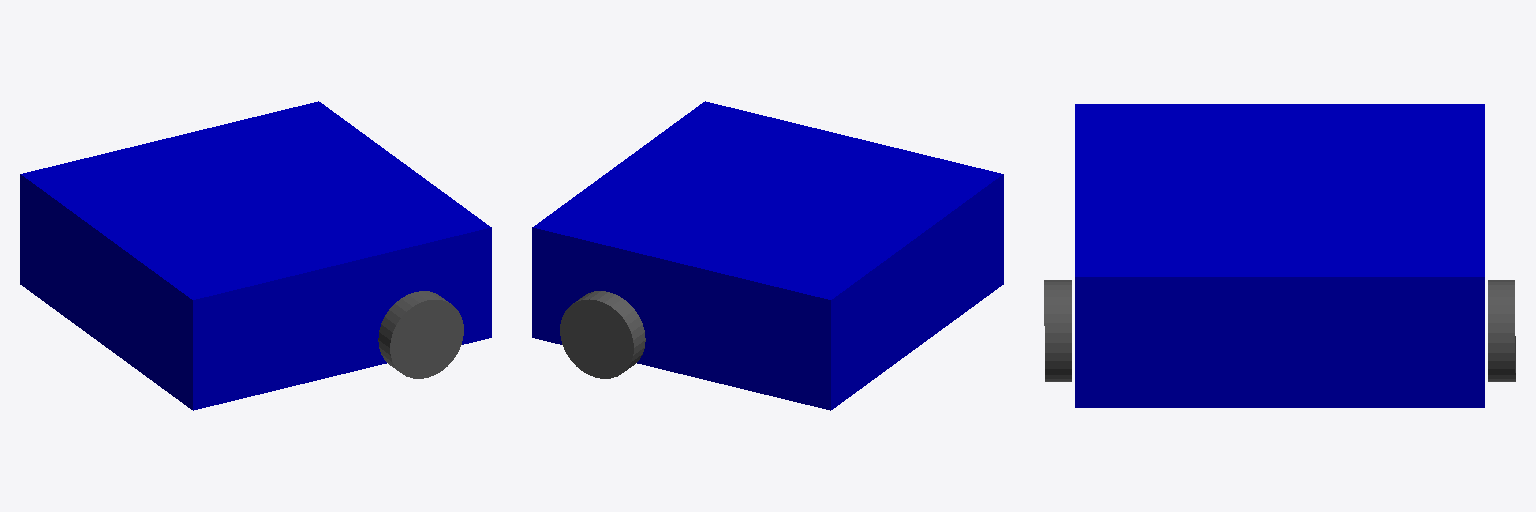
The robot description file, URDF, robot "turtlebot3_waffle":
<?xml version="1.0" ?>
<robot name="turtlebot3_waffle" xmlns:xacro="http://ros.org/wiki/xacro">
  <!-- <xacro:include filename="$(find turtlebot3_description)/urdf/common_properties.urdf"/>

  <xacro:property name="r200_cam_rgb_px" value="0.005"/>
  <xacro:property name="r200_cam_rgb_py" value="0.018"/>
  <xacro:property name="r200_cam_rgb_pz" value="0.013"/>
  <xacro:property name="r200_cam_depth_offset" value="0.01"/> -->

  <!-- Init colour -->
  <material name="black">
      <color rgba="0.0 0.0 0.0 1.0"/>
  </material>

  <material name="dark">
    <color rgba="0.3 0.3 0.3 1.0"/>
  </material>

  <material name="light_black">
    <color rgba="0.4 0.4 0.4 1.0"/>
  </material>

  <material name="blue">
    <color rgba="0.0 0.0 0.8 1.0"/>
  </material>

  <material name="green">
    <color rgba="0.0 0.8 0.0 1.0"/>
  </material>

  <material name="grey">
    <color rgba="0.5 0.5 0.5 1.0"/>
  </material>

  <material name="orange">
    <color rgba="1.0 0.4235 0.0392 1.0"/>
  </material>

  <material name="brown">
    <color rgba="0.8706 0.8118 0.7647 1.0"/>
  </material>

  <material name="red">
    <color rgba="0.8 0.0 0.0 1.0"/>
  </material>

  <material name="white">
    <color rgba="1.0 1.0 1.0 1.0"/>
  </material>

  <link name="base_footprint"/>

  <joint name="base_joint" type="fixed">
    <parent link="base_footprint"/>
    <child link="base_link" />
    <origin xyz="0 0 0.010" rpy="0 0 0"/>
  </joint>

  <link name="base_link">
    <visual>
      <origin xyz="-0.064 0 0.047" rpy="0 0 0"/>
      <geometry>
        <box size="0.266 0.266 0.094"/>
      </geometry>
      <material name="blue"/>
    </visual>

    <collision>
      <origin xyz="-0.064 0 0.047" rpy="0 0 0"/>
      <geometry>
        <box size="0.266 0.266 0.094"/>
      </geometry>
    </collision>

    <inertial>
      <origin xyz="0 0 0" rpy="0 0 0"/>
      <mass value="1.3729096e+00"/>
      <inertia ixx="8.7002718e-03" ixy="-4.7576583e-05" ixz="1.1160499e-04"
               iyy="8.6195418e-03" iyz="-3.5422299e-06"
               izz="1.4612727e-02" />
    </inertial>
  </link>

  <joint name="wheel_left_joint" type="continuous">
    <parent link="base_link"/>
    <child link="wheel_left_link"/>
    <origin xyz="0.0 0.144 0.023" rpy="-1.57 0 0"/>
    <axis xyz="0 0 1"/>
  </joint>

  <link name="wheel_left_link">
    <visual>
      <origin xyz="0 0 0" rpy="0 0 0"/>
      <geometry>
        <cylinder length="0.018" radius="0.033"/>
      </geometry>
      <material name="light_black"/>
    </visual>

    <collision>
      <origin xyz="0 0 0" rpy="0 0 0"/>
      <geometry>
        <cylinder length="0.018" radius="0.033"/>
      </geometry>
    </collision>

    <inertial>
      <origin xyz="0 0 0" />
      <mass value="2.8498940e-02" />
      <inertia ixx="1.1175580e-05" ixy="-4.2369783e-11" ixz="-5.9381719e-09"
               iyy="1.1192413e-05" iyz="-1.4400107e-11"
               izz="2.0712558e-05" />
      </inertial>
  </link>

  <joint name="wheel_right_joint" type="continuous">
    <parent link="base_link"/>
    <child link="wheel_right_link"/>
    <origin xyz="0.0 -0.144 0.023" rpy="-1.57 0 0"/>
    <axis xyz="0 0 1"/>
  </joint>

  <link name="wheel_right_link">
    <visual>
      <origin xyz="0 0 0" rpy="0 0 0"/>
      <geometry>
        <cylinder length="0.018" radius="0.033"/>
      </geometry>
      <material name="light_black"/>
    </visual>

    <collision>
      <origin xyz="0 0 0" rpy="0 0 0"/>
      <geometry>
        <cylinder length="0.018" radius="0.033"/>
      </geometry>
    </collision>

    <inertial>
      <origin xyz="0 0 0" />
      <mass value="2.8498940e-02" />
      <inertia ixx="1.1175580e-05" ixy="-4.2369783e-11" ixz="-5.9381719e-09"
               iyy="1.1192413e-05" iyz="-1.4400107e-11"
               izz="2.0712558e-05" />
      </inertial>
  </link>

  <joint name="caster_back_right_joint" type="fixed">
    <parent link="base_link"/>
    <child link="caster_back_right_link"/>
    <origin xyz="-0.177 -0.064 -0.004" rpy="-1.57 0 0"/>
  </joint>

  <link name="caster_back_right_link">
    <collision>
      <origin xyz="0 0.001 0" rpy="0 0 0"/>
      <geometry>
        <box size="0.030 0.009 0.020"/>
      </geometry>
    </collision>

    <inertial>
      <origin xyz="0 0 0" />
      <mass value="0.005" />
      <inertia ixx="0.001" ixy="0.0" ixz="0.0"
               iyy="0.001" iyz="0.0"
               izz="0.001" />
    </inertial>
  </link>

  <joint name="caster_back_left_joint" type="fixed">
    <parent link="base_link"/>
    <child link="caster_back_left_link"/>
    <origin xyz="-0.177 0.064 -0.004" rpy="-1.57 0 0"/>
  </joint>

  <link name="caster_back_left_link">
    <collision>
      <origin xyz="0 0.001 0" rpy="0 0 0"/>
      <geometry>
        <box size="0.030 0.009 0.020"/>
      </geometry>
    </collision>

    <inertial>
      <origin xyz="0 0 0" />
      <mass value="0.005" />
      <inertia ixx="0.001" ixy="0.0" ixz="0.0"
               iyy="0.001" iyz="0.0"
               izz="0.001" />
    </inertial>
  </link>

  <joint name="imu_joint" type="fixed">
    <parent link="base_link"/>
    <child link="imu_link"/>
    <origin xyz="0.0 0 0.068" rpy="0 0 0"/>
  </joint>

  <link name="imu_link"/>

  <joint name="scan_joint" type="fixed">
    <parent link="base_link"/>
    <child link="base_scan"/>
    <origin xyz="-0.064 0 0.122" rpy="0 0 0"/>
  </joint>

  <link name="base_scan">
    <collision>
      <origin xyz="0.015 0 -0.0065" rpy="0 0 0"/>
      <geometry>
        <cylinder length="0.0315" radius="0.055"/>
      </geometry>
    </collision>

    <inertial>
      <mass value="0.114" />
      <origin xyz="0 0 0" />
      <inertia ixx="0.001" ixy="0.0" ixz="0.0"
               iyy="0.001" iyz="0.0"
               izz="0.001" />
    </inertial>
  </link>

  <joint name="camera_joint" type="fixed">
    <origin xyz="0.064 -0.065 0.094" rpy="0 0 0"/>
    <parent link="base_link"/>
    <child link="camera_link"/>
  </joint>

  <link name="camera_link">
    <collision>
      <origin xyz="0.003 0.065 0.007" rpy="0 0 0"/>
      <geometry>
        <box size="0.012 0.132 0.020"/>
      </geometry>
    </collision>

    <!-- This inertial field needs doesn't contain reliable data!! -->
<!--   <inertial>
      <mass value="0.564" />
      <origin xyz="0 0 0" />
      <inertia ixx="0.003881243" ixy="0.0" ixz="0.0"
               iyy="0.000498940" iyz="0.0"
               izz="0.003879257" />
    </inertial>-->
  </link>

  <joint name="camera_rgb_joint" type="fixed">
    <origin xyz="0.005 0.018 0.013" rpy="-1.57 0 -1.57"/>
    <!-- <origin xyz="${r200_cam_rgb_px} ${r200_cam_rgb_py} ${r200_cam_rgb_pz}" rpy="0 0 0"/> -->
    <parent link="camera_link"/>
    <child link="camera_rgb_frame"/>
  </joint>
  <link name="camera_rgb_frame"/>

  <joint name="camera_rgb_optical_joint" type="fixed">
    <origin xyz="0 0 0" rpy="-1.57 0 -1.57"/>
    <parent link="camera_rgb_frame"/>
    <child link="camera_rgb_optical_frame"/>
  </joint>
  <link name="camera_rgb_optical_frame"/>

  <joint name="camera_depth_joint" type="fixed">
    <origin xyz="0.005 0.028 0.013" rpy="-1.57 0 -1.57"/>
    <!-- <origin xyz="${r200_cam_rgb_px} ${r200_cam_rgb_py + r200_cam_depth_offset} ${r200_cam_rgb_pz}" rpy="0 0 0"/> -->
    <parent link="camera_link"/>
    <child link="camera_depth_frame"/>
  </joint>
  <link name="camera_depth_frame"/>

  <joint name="camera_depth_optical_joint" type="fixed">
    <origin xyz="0 0 0" rpy="-1.57 0 -1.57"/>
    <parent link="camera_depth_frame"/>
    <child link="camera_depth_optical_frame"/>
  </joint>
  <link name="camera_depth_optical_frame"/>

</robot>

--- What the picture shows (computed from the rendered views, not written in the file) ---
3 views of the same robot in one strip: view 1: azimuth 30°, elevation 25°; view 2: azimuth 150°, elevation 25°; view 3: azimuth 270°, elevation 25° (orthographic).
Model turtlebot3_waffle with 13 links and 12 joints (2 continuous, 10 fixed), rooted at base_footprint, posed every joint at zero.
Links seen in each view (by area): view 1: base_link, wheel_right_link; view 2: base_link, wheel_left_link; view 3: base_link, wheel_left_link, wheel_right_link.
Link boxes in pixels (x1=…): base_link: x1=20, y1=101, x2=491, y2=410; wheel_right_link: x1=378, y1=291, x2=463, y2=378; base_link: x1=532, y1=101, x2=1003, y2=410; wheel_left_link: x1=560, y1=291, x2=645, y2=378; base_link: x1=1075, y1=104, x2=1484, y2=407; wheel_left_link: x1=1488, y1=280, x2=1515, y2=381; wheel_right_link: x1=1044, y1=280, x2=1071, y2=381.
Bounding box of the posed robot: 0.266 × 0.3061 × 0.104 m (x, y, z).
Geometry: primitives only (box / cylinder / sphere), no mesh files.